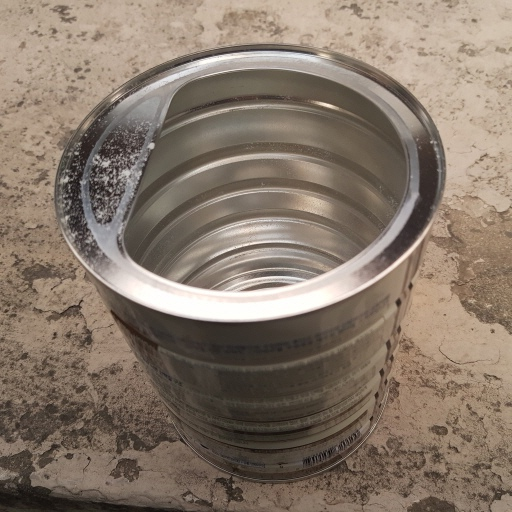Metal_1: (53, 38, 445, 483)
